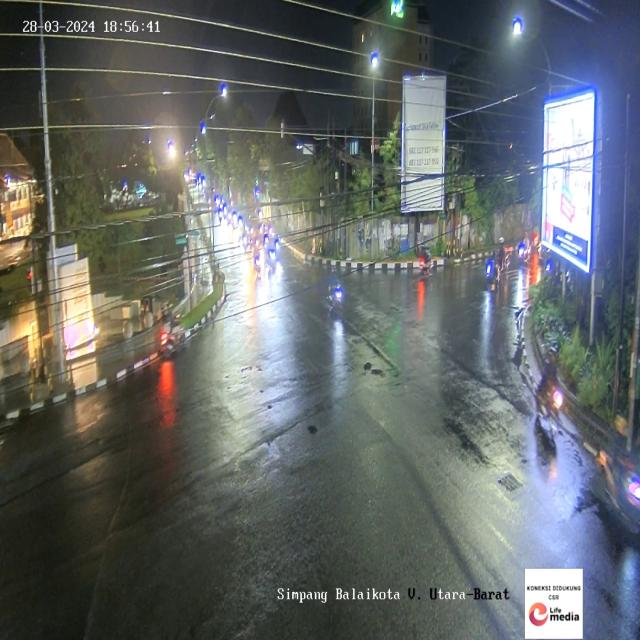motorcycle: (538, 346, 561, 426), (328, 266, 344, 321), (416, 243, 437, 282), (484, 241, 500, 289), (496, 233, 508, 274), (518, 233, 532, 266), (252, 244, 264, 280), (266, 241, 278, 274)
